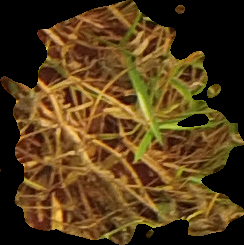soil: (1, 1, 244, 243)
